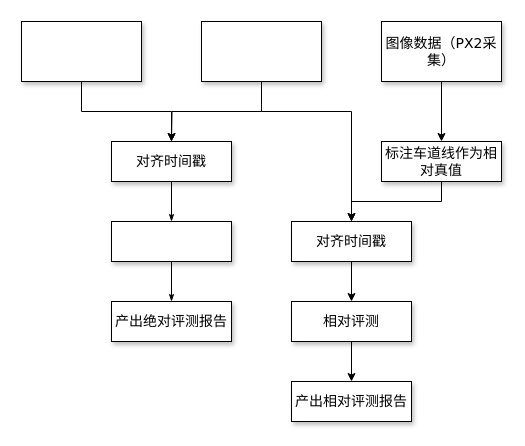
This 525x446 diagram has some shape labels left out. The shapes that lost their labels are listed below. From the top down, each one's centre as x and y in pixels, then its label:
pixel 82 52: 高精度RTK（真值）
pixel 262 52: 路测定位结果数据（恒润硬件采集）
pixel 172 242: 绝对评测
